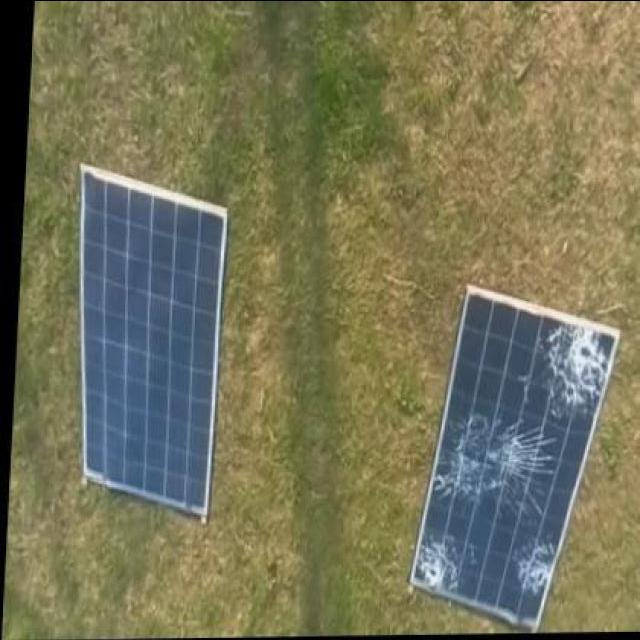cracked: (411, 278, 622, 626)
